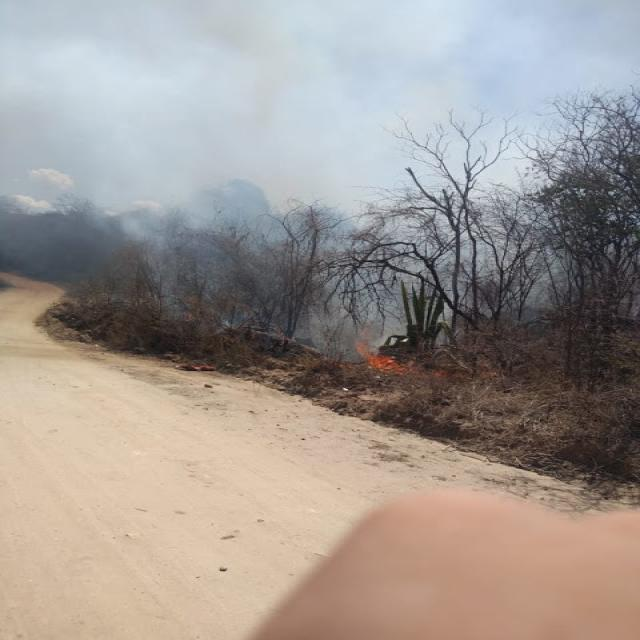Fire: (350, 346, 400, 370)
Smoke: (303, 0, 562, 351), (133, 0, 304, 334), (0, 0, 135, 272)
